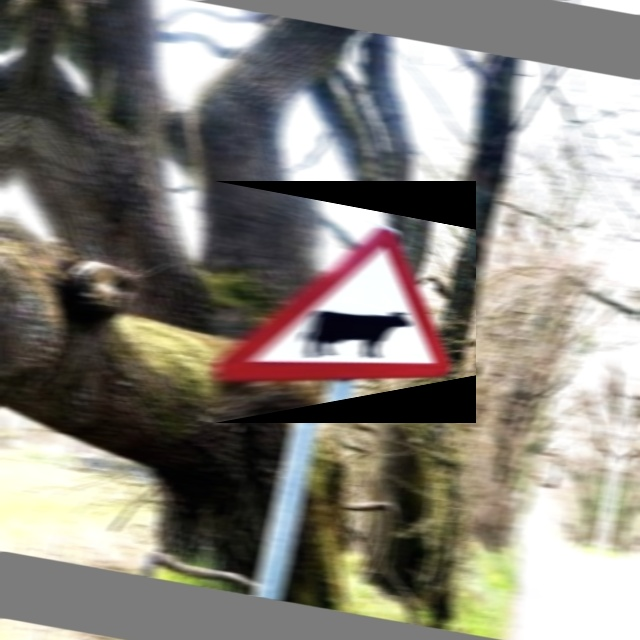Cattle: (214, 181, 476, 423)
